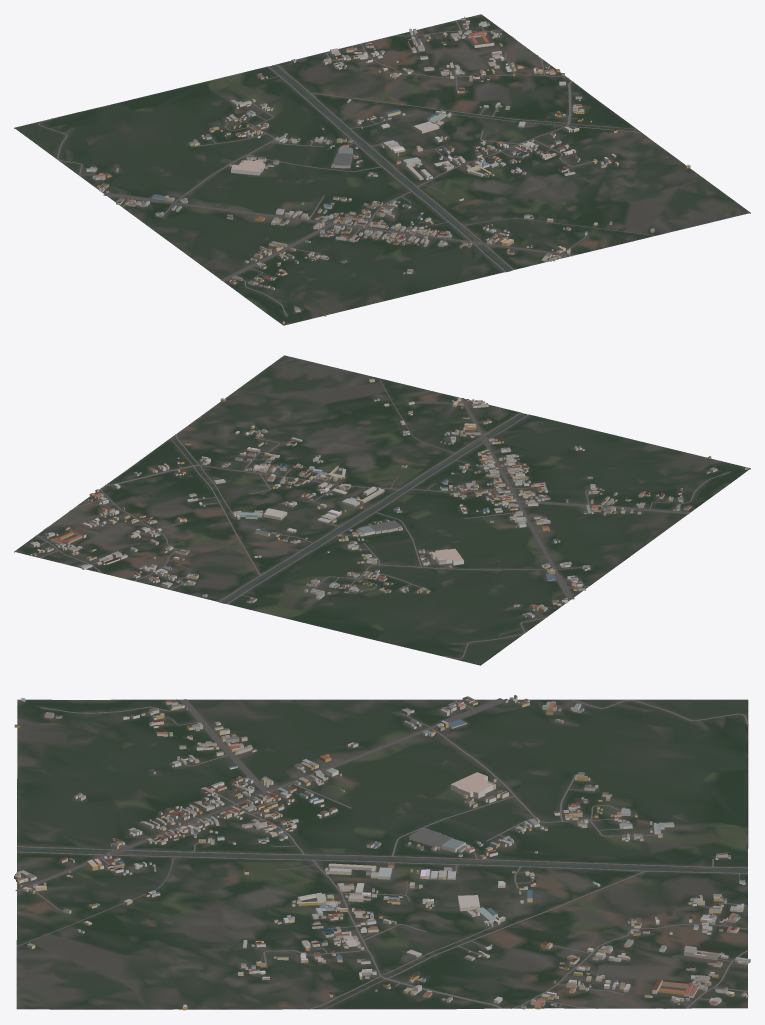
The picture shows the model from 3 angles, top to bottom: view 1: azimuth 30°, elevation 25°; view 2: azimuth 150°, elevation 25°; view 3: azimuth 270°, elevation 25°; orthographic projection. The views are drawn at different scales.
Visible parts, largest first — view 1: ground, buildings, roads, water; view 2: ground, buildings, roads, water; view 3: ground, buildings, roads, water.
Part boxes in pixels (left/top/right/bottom): ground: left=14, top=14, right=750, bottom=325; buildings: left=86, top=16, right=690, bottom=324; roads: left=38, top=20, right=655, bottom=316; water: left=272, top=65, right=509, bottom=271; ground: left=14, top=355, right=750, bottom=665; buildings: left=29, top=378, right=748, bottom=617; roads: left=35, top=378, right=730, bottom=658; water: left=221, top=413, right=526, bottom=603; ground: left=16, top=699, right=748, bottom=1009; buildings: left=14, top=695, right=750, bottom=1010; roads: left=15, top=698, right=748, bottom=1009; water: left=17, top=848, right=747, bottom=871.
Bounding box in the file's own units: 1409 × 17.44 × 1412.
